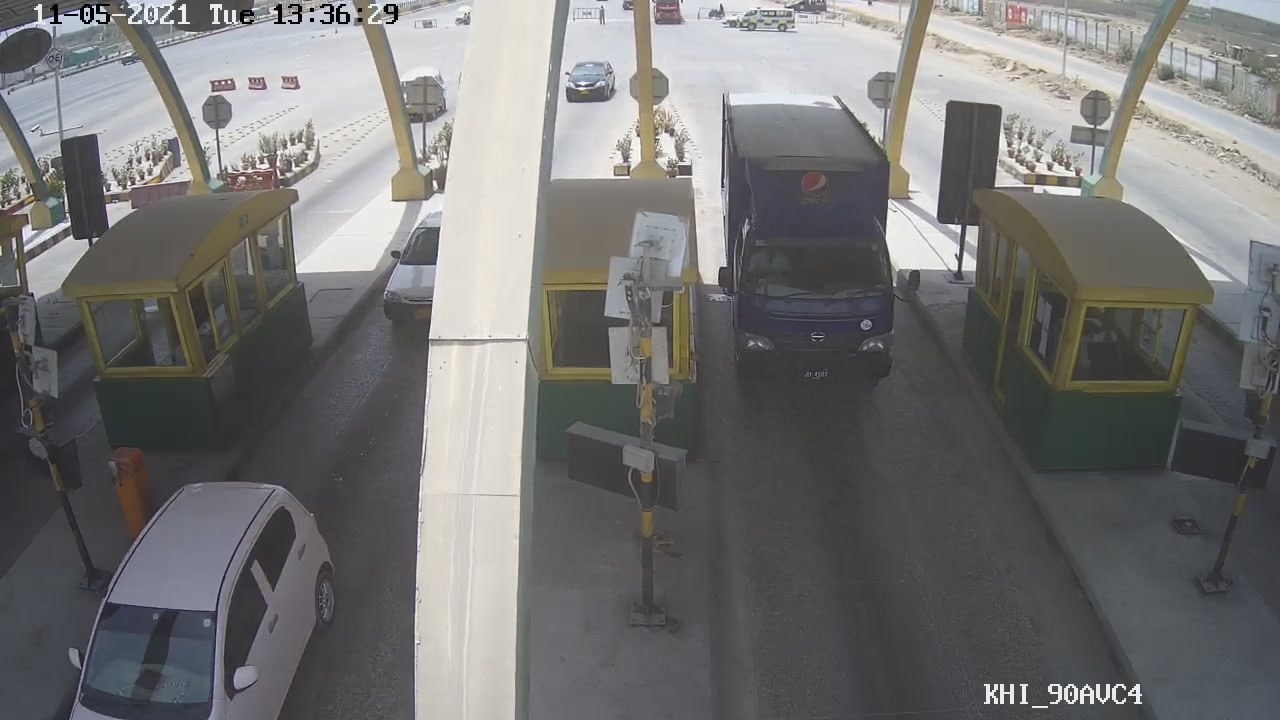F5: (707, 81, 929, 396)
